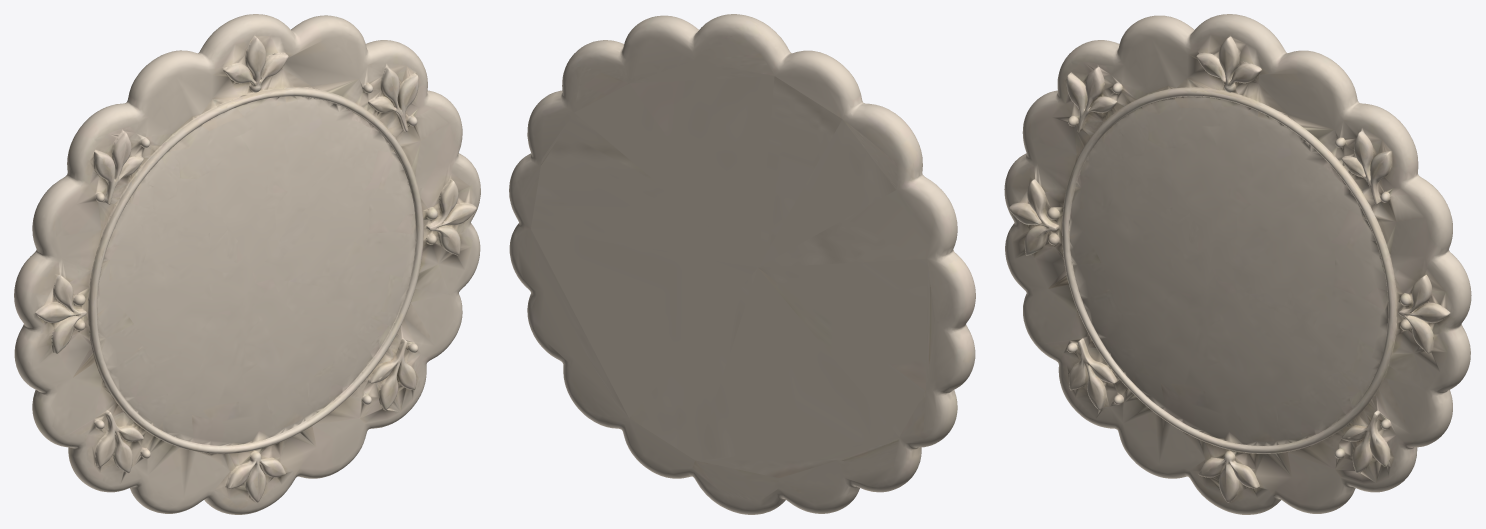
The picture shows the model from 3 angles, left to right: view 1: azimuth 30°, elevation 25°; view 2: azimuth 150°, elevation 25°; view 3: azimuth 330°, elevation 25°; orthographic projection.
Size of the model in its own units: 1.86 by 1.9 by 0.1595.
1 material, 1 textured.
